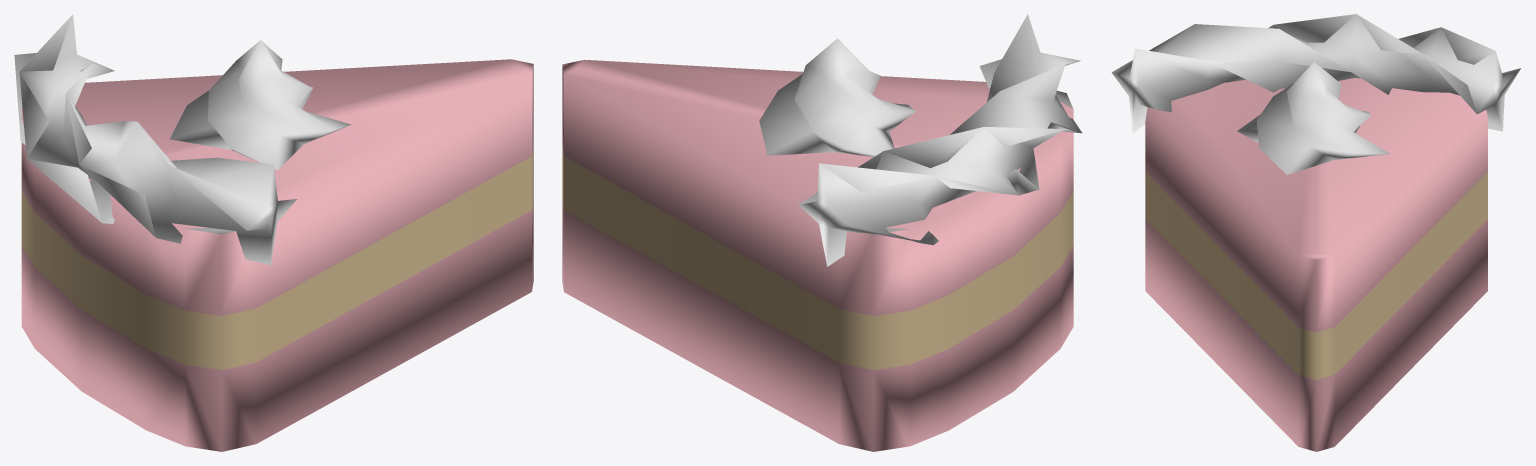
File: a_cake1.fbx
3 renders of one model, left to right at view 1: azimuth 30°, elevation 25°; view 2: azimuth 150°, elevation 25°; view 3: azimuth 270°, elevation 25°, orthographic. The views are drawn at different scales.
Visible parts, largest first — view 1: pCube1, pCube2, pCylinder3; view 2: pCube1, pCube2, pCylinder3; view 3: pCube1, pCube2, pCylinder3.
Part boxes in pixels (bbox=[...]): pCube1: bbox=[21, 59, 533, 451]; pCube2: bbox=[14, 14, 297, 265]; pCylinder3: bbox=[170, 40, 351, 170]; pCube1: bbox=[562, 59, 1073, 451]; pCube2: bbox=[798, 14, 1082, 266]; pCylinder3: bbox=[759, 38, 915, 156]; pCube1: bbox=[1145, 78, 1487, 451]; pCube2: bbox=[1111, 14, 1520, 133]; pCylinder3: bbox=[1237, 62, 1390, 174].
Size of the model in its own units: 3.89 by 2.39 by 3.26.
